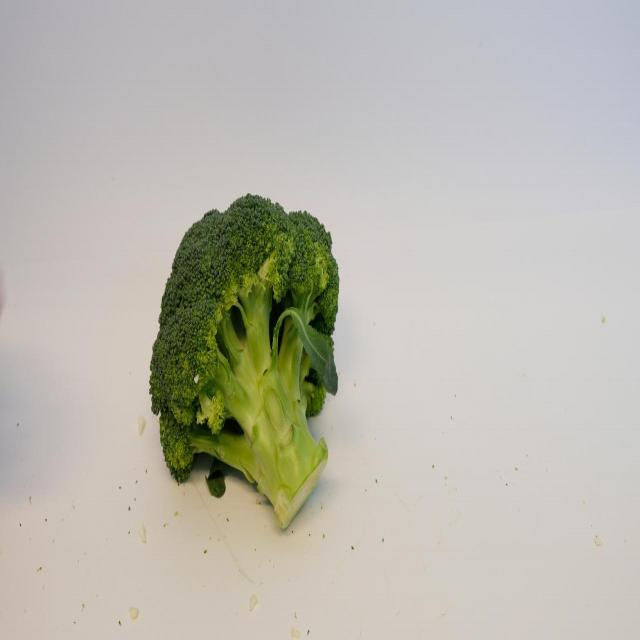broccoli: (148, 191, 340, 529)
